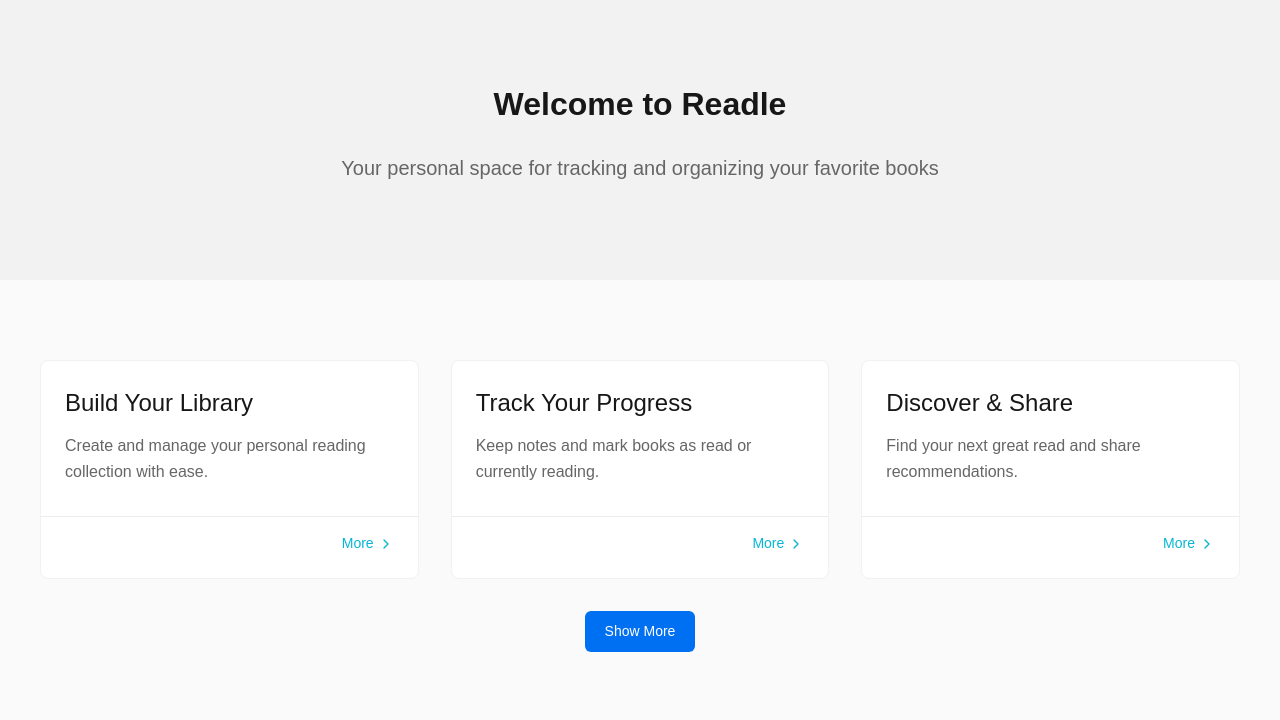
Test case: HomaPage › should show Another Card when "Show More" is clicked
# Klik tombol "Show More"
Step 1. Click the button "Show More" → {"x": 640, "y": 632}, box [585, 611, 695, 652]
(page scrolled)
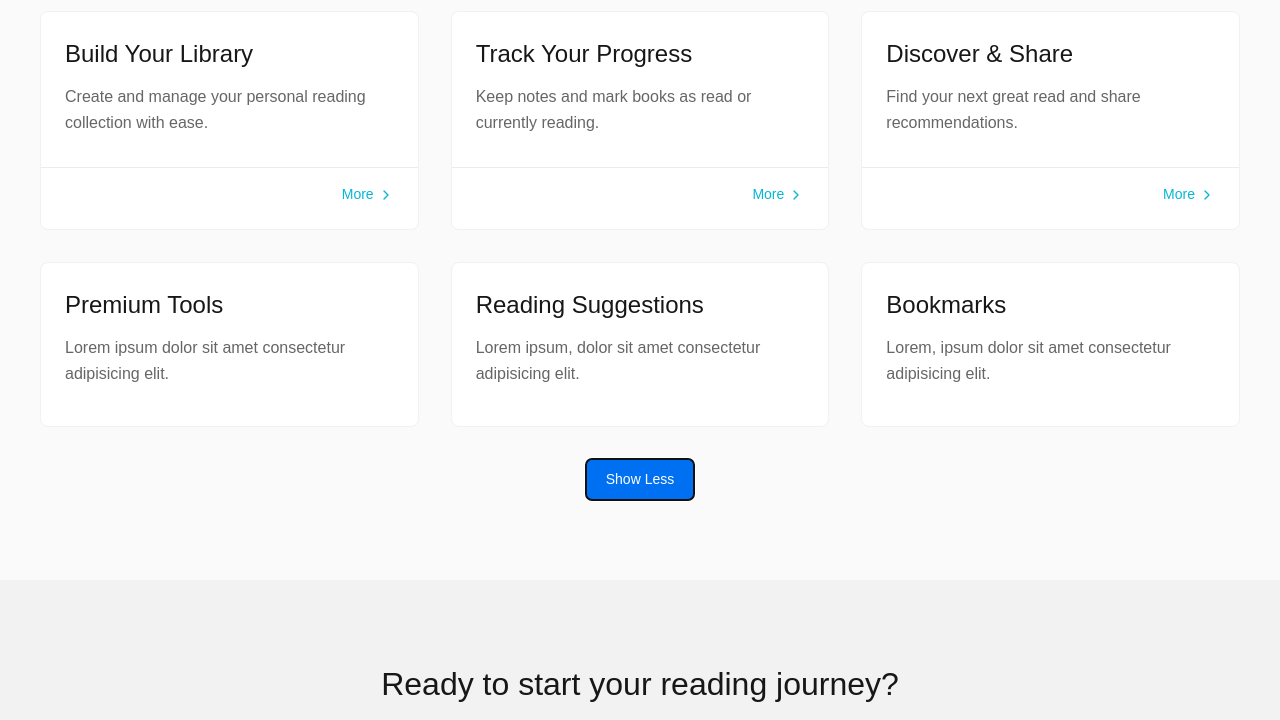
Result: the list named "more features" is shown at [40, 262, 1240, 459]
